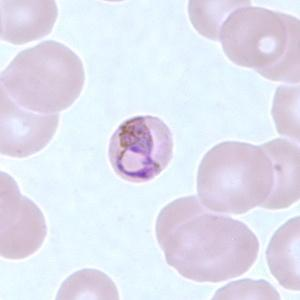Infected: (108, 115, 176, 185)
Uninfected: (3, 41, 87, 115), (170, 216, 261, 282), (196, 141, 272, 214), (156, 197, 234, 262), (220, 7, 289, 68), (0, 92, 60, 159), (249, 138, 300, 210), (0, 194, 48, 262), (187, 0, 250, 45), (0, 1, 57, 47), (56, 267, 120, 300)
